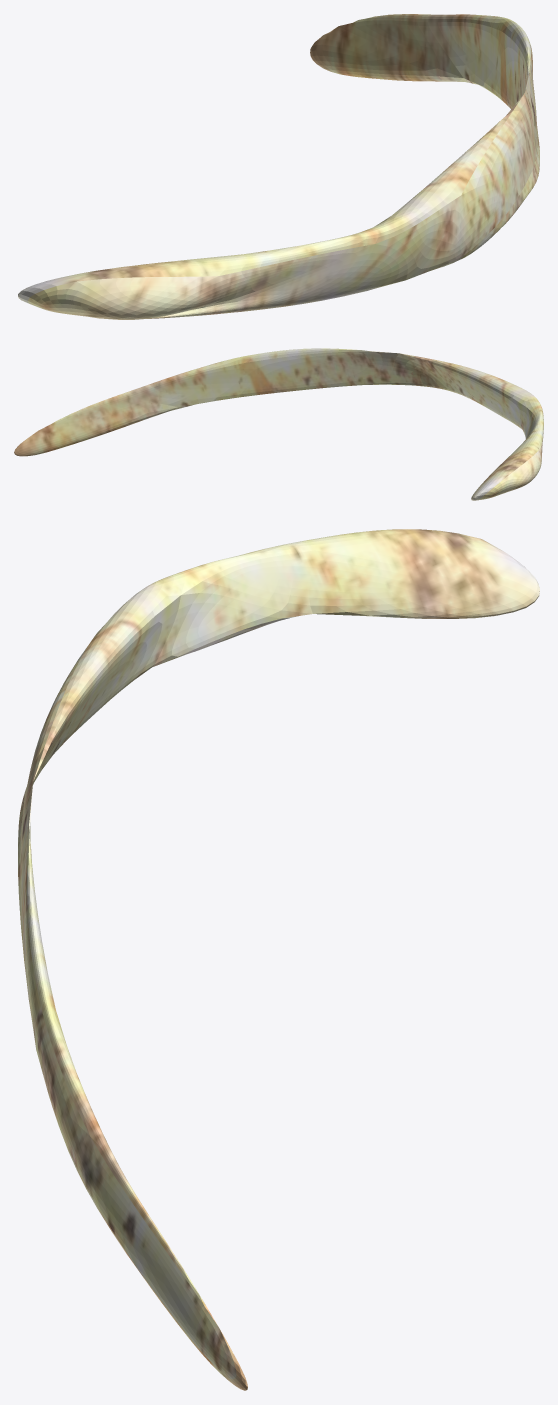
The model's file is rib.obj.
3 renders of one model, top to bottom at view 1: azimuth 90°, elevation 25°; view 2: azimuth 150°, elevation 25°; view 3: azimuth 270°, elevation 25°, orthographic. The views are drawn at different scales.
Parts seen in each view (by area): view 1: Esqueleto_Esqueleto1_Torso.020; view 2: Esqueleto_Esqueleto1_Torso.020; view 3: Esqueleto_Esqueleto1_Torso.020.
Part boxes in pixels (bbox=[...]): Esqueleto_Esqueleto1_Torso.020: bbox=[18, 14, 539, 319]; Esqueleto_Esqueleto1_Torso.020: bbox=[14, 348, 543, 500]; Esqueleto_Esqueleto1_Torso.020: bbox=[18, 529, 539, 1390].
Size of the model in its own units: 0.9883 by 0.2756 by 0.3967.
Materials: 1 (1 with a texture image).
